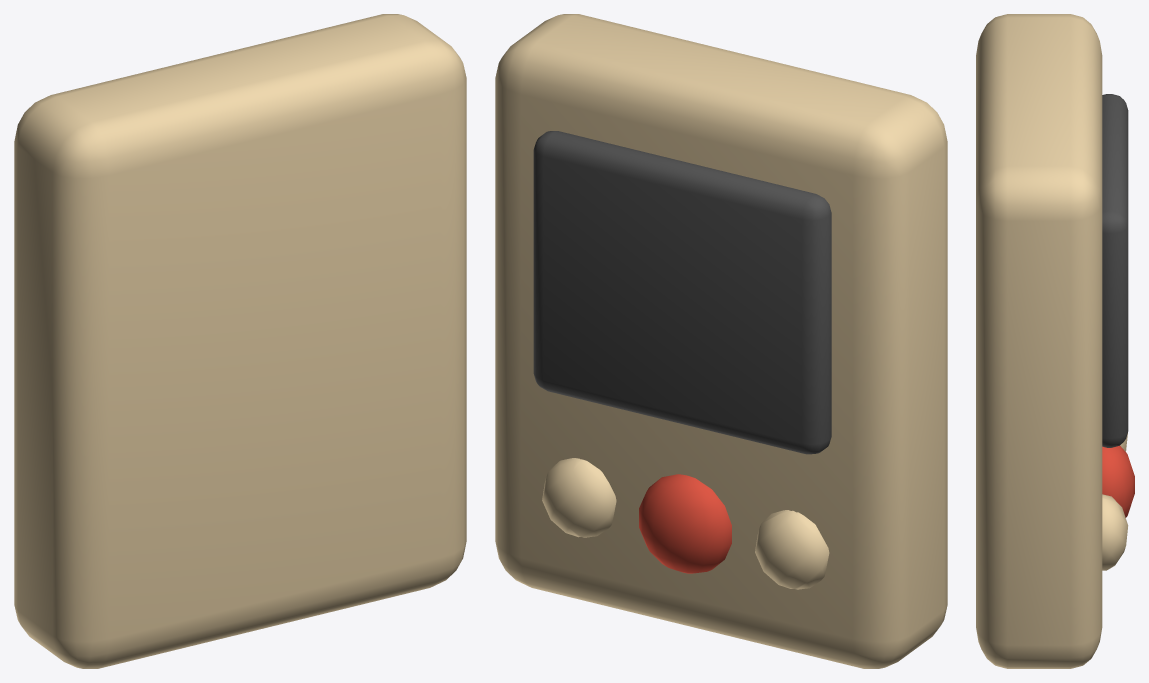
File: flaneur.glb
3 renders of one model, left to right at view 1: azimuth 30°, elevation 25°; view 2: azimuth 150°, elevation 25°; view 3: azimuth 270°, elevation 25°, orthographic. The views are drawn at different scales.
Parts seen in each view (by area): view 1: Cube; view 2: Cube; view 3: Cube.
Part boxes in pixels (x1,y1,x2,y2): Cube: (14,14,466,668); Cube: (495,14,947,668); Cube: (976,14,1134,668).
Bounding box in the file's own units: 1.56 × 1.98 × 0.5722.
